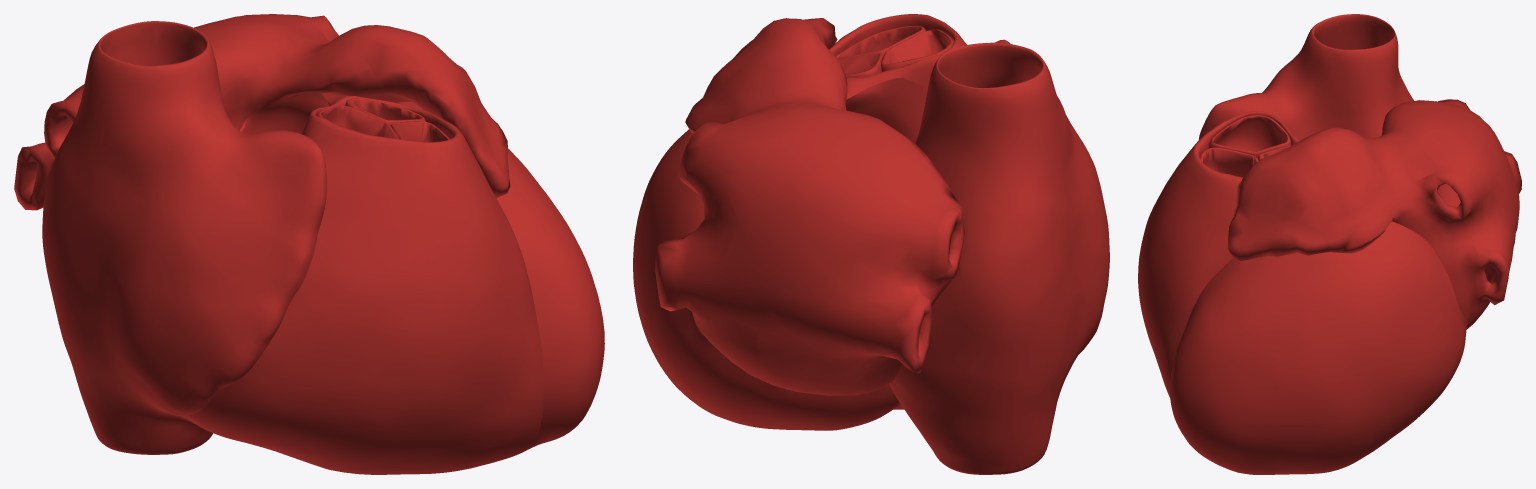
Rendered from coracao.glb.
3 renders of one model, left to right at view 1: azimuth 30°, elevation 25°; view 2: azimuth 150°, elevation 25°; view 3: azimuth 270°, elevation 25°, orthographic. The views are drawn at different scales.
Visible parts, largest first — view 1: Right atrium, Right ventricle, Left atrium, Left ventricle, Right semilunar leaflet of pulmonary valve, Left semilunar leaflet of pulmonary valve, Anterior semilunar leaflet of pulmonary valve; view 2: Left atrium, Right atrium, Left ventricle, Right ventricle, Right semilunar leaflet of pulmonary valve, Anterior semilunar leaflet of pulmonary valve, Left semilunar leaflet of pulmonary valve; view 3: Left ventricle, Left atrium, Right atrium, Right ventricle, Right semilunar leaflet of pulmonary valve, Anterior semilunar leaflet of pulmonary valve.
Part boxes in pixels (left/top/right/bottom): Right atrium: left=42, top=21, right=326, bottom=454; Right ventricle: left=184, top=93, right=544, bottom=474; Left atrium: left=14, top=14, right=510, bottom=210; Left ventricle: left=239, top=93, right=604, bottom=446; Right semilunar leaflet of pulmonary valve: left=316, top=105, right=398, bottom=138; Left semilunar leaflet of pulmonary valve: left=345, top=98, right=425, bottom=125; Anterior semilunar leaflet of pulmonary valve: left=390, top=121, right=449, bottom=142; Left atrium: left=655, top=18, right=964, bottom=395; Right atrium: left=889, top=39, right=1109, bottom=474; Left ventricle: left=633, top=77, right=927, bottom=430; Right ventricle: left=829, top=14, right=966, bottom=409; Right semilunar leaflet of pulmonary valve: left=881, top=29, right=954, bottom=71; Anterior semilunar leaflet of pulmonary valve: left=835, top=25, right=926, bottom=59; Left semilunar leaflet of pulmonary valve: left=837, top=53, right=883, bottom=77; Left ventricle: left=1170, top=221, right=1467, bottom=474; Left atrium: left=1228, top=99, right=1521, bottom=329; Right atrium: left=1199, top=14, right=1413, bottom=221; Right ventricle: left=1138, top=111, right=1299, bottom=397; Right semilunar leaflet of pulmonary valve: left=1208, top=115, right=1291, bottom=159; Anterior semilunar leaflet of pulmonary valve: left=1200, top=147, right=1258, bottom=177.
Size of the model in its own units: 0.1191 by 0.108 by 0.1129.
